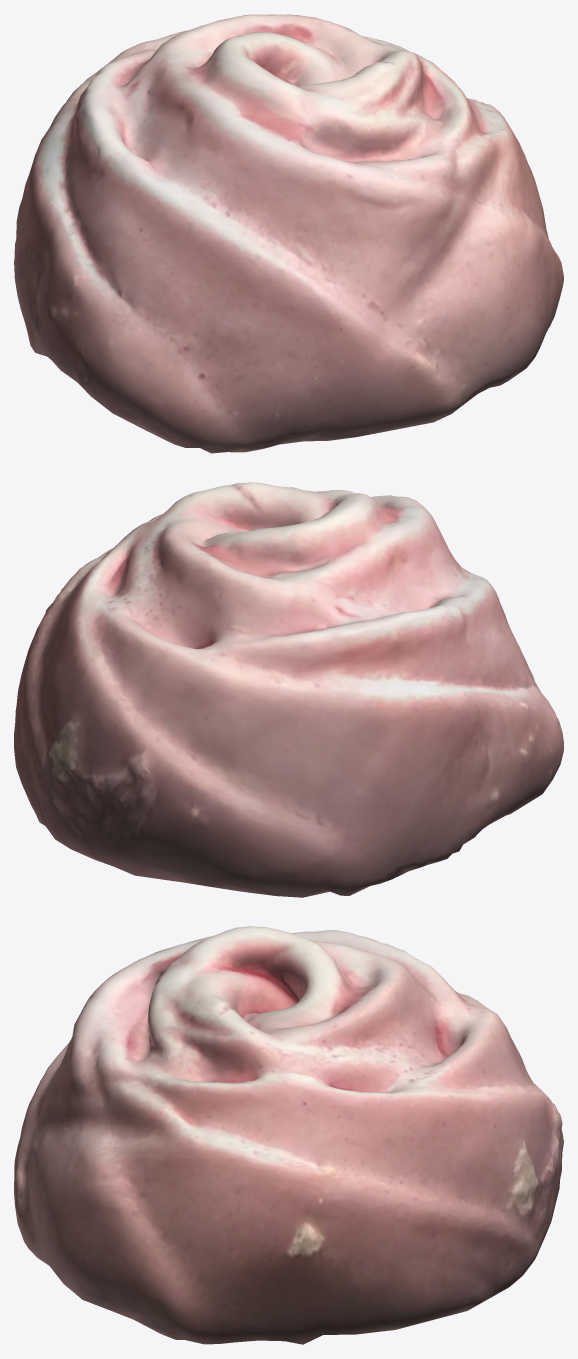
The model's file is 玫瑰花卷.glb.
The picture shows the model from 3 angles, top to bottom: view 1: azimuth 30°, elevation 25°; view 2: azimuth 150°, elevation 25°; view 3: azimuth 270°, elevation 25°; orthographic projection. The views are drawn at different scales.
Parts seen in each view (by area): view 1: 玫瑰花卷.usdz; view 2: 玫瑰花卷.usdz; view 3: 玫瑰花卷.usdz.
Part boxes in pixels (bbox=[...]): 玫瑰花卷.usdz: bbox=[14, 14, 563, 453]; 玫瑰花卷.usdz: bbox=[14, 482, 563, 897]; 玫瑰花卷.usdz: bbox=[14, 926, 563, 1344].
Bounding box in the file's own units: 0.069 × 0.043 × 0.0708.
Materials: 1 (1 with a texture image).
